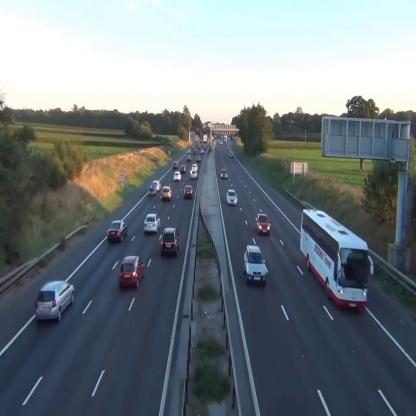car: (35, 280, 75, 323), (243, 245, 267, 286), (119, 256, 145, 289), (161, 228, 180, 258), (107, 220, 128, 242), (144, 213, 161, 235), (255, 213, 271, 235), (227, 189, 238, 206), (162, 186, 172, 201), (184, 185, 193, 199), (152, 180, 161, 190), (220, 168, 228, 179), (174, 171, 181, 182), (190, 170, 198, 178), (180, 165, 186, 172), (173, 160, 178, 168), (192, 163, 197, 171), (187, 154, 191, 161)
lorry: (300, 209, 374, 310)
